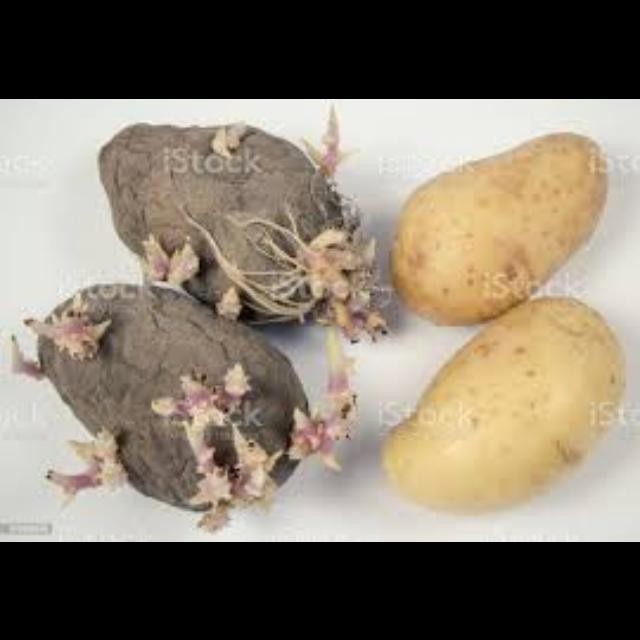Sprouted potato: (0, 245, 368, 541), (102, 112, 398, 344)
